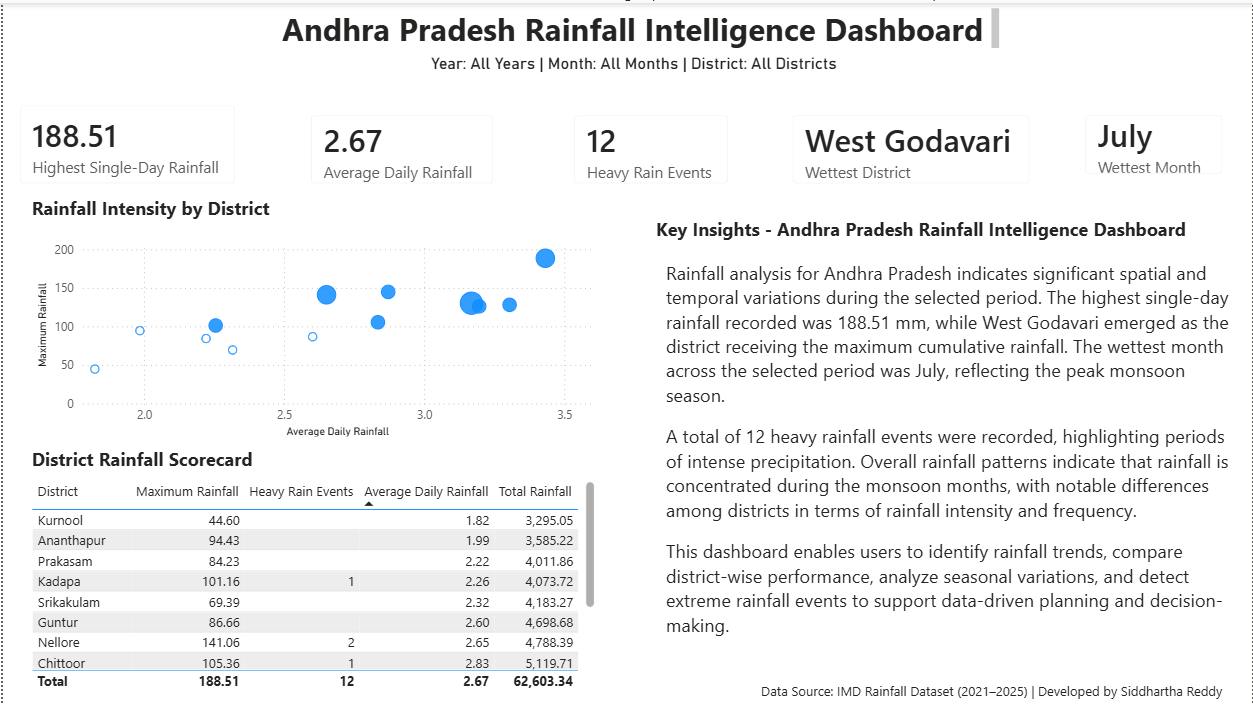

This screenshot's page, from the dashboard's own definition file:
{"tool":"powerbi","page":{"name":"Rainfall Extremes & Insights","canvas":[1280,720],"ordinal":3},"visuals":[{"type":"textbox","box":[281.3,1.4,745,51.7],"z":0},{"type":"textbox","box":[433.5,53.1,440.7,35.9],"z":1000},{"type":"cardVisual","fields":{"Data":["Dummy.Highest Single-Day Rainfall"]},"box":[0,89,255.5,114.8],"z":3000},{"type":"cardVisual","fields":{"Data":["Dummy.Average Daily Rainfall"]},"box":[298.6,99,221.1,104.8],"z":4000},{"type":"cardVisual","fields":{"Data":["Dummy.Wettest Month"]},"box":[1092.4,99,175.1,94.7],"z":5000},{"type":"cardVisual","fields":{"Data":["Dummy.Wettest District"]},"box":[792.4,99,277,104.8],"z":6000},{"type":"cardVisual","fields":{"Data":["Dummy.Heavy Rain Events"]},"box":[568.4,99,192.3,104.8],"z":7000},{"type":"tableEx","fields":{"Values":["district_dim.District","Dummy.Maximum Rainfall","Dummy.Heavy Rain Events","Dummy.Average Daily Rainfall","Dummy.Total Rainfall"]},"box":[24.4,486.6,587.1,223.9],"z":7001},{"type":"scatterChart","fields":{"Category":["district_dim.District"],"Size":["Dummy.Heavy Rain Events"],"X":["Dummy.Average Daily Rainfall"],"Y":["Dummy.Maximum Rainfall"]},"box":[30.1,236.8,587.1,213.9],"z":7002},{"type":"textbox","box":[24.4,450.7,300,35.9],"z":7003},{"type":"textbox","box":[24.4,193.8,277,43.1],"z":7004},{"type":"textbox","box":[674.6,259.8,592.8,420.6],"z":7005},{"type":"textbox","box":[664.6,215.3,592.8,44.5],"z":7006},{"type":"textbox","box":[771.9,691.3,508.1,28.7],"z":7007}]}

Visuals, with their boxes in screenshot pixels (x1, y1, x2, y2), scaled from the page's 1280x720 canvas onto the 1253x705 screenshot:
textbox: <region>275, 1, 1005, 52</region>
textbox: <region>424, 52, 856, 87</region>
cardVisual - Dummy.Highest Single-Day Rainfall: <region>0, 87, 250, 200</region>
cardVisual - Dummy.Average Daily Rainfall: <region>292, 97, 509, 200</region>
cardVisual - Dummy.Wettest Month: <region>1069, 97, 1241, 190</region>
cardVisual - Dummy.Wettest District: <region>776, 97, 1047, 200</region>
cardVisual - Dummy.Heavy Rain Events: <region>556, 97, 745, 200</region>
tableEx - district_dim.District x Dummy.Maximum Rainfall: <region>24, 476, 599, 696</region>
scatterChart - district_dim.District x Dummy.Heavy Rain Events: <region>29, 232, 604, 441</region>
textbox: <region>24, 441, 318, 476</region>
textbox: <region>24, 190, 295, 232</region>
textbox: <region>660, 254, 1241, 666</region>
textbox: <region>651, 211, 1231, 254</region>
textbox: <region>756, 677, 1252, 704</region>
